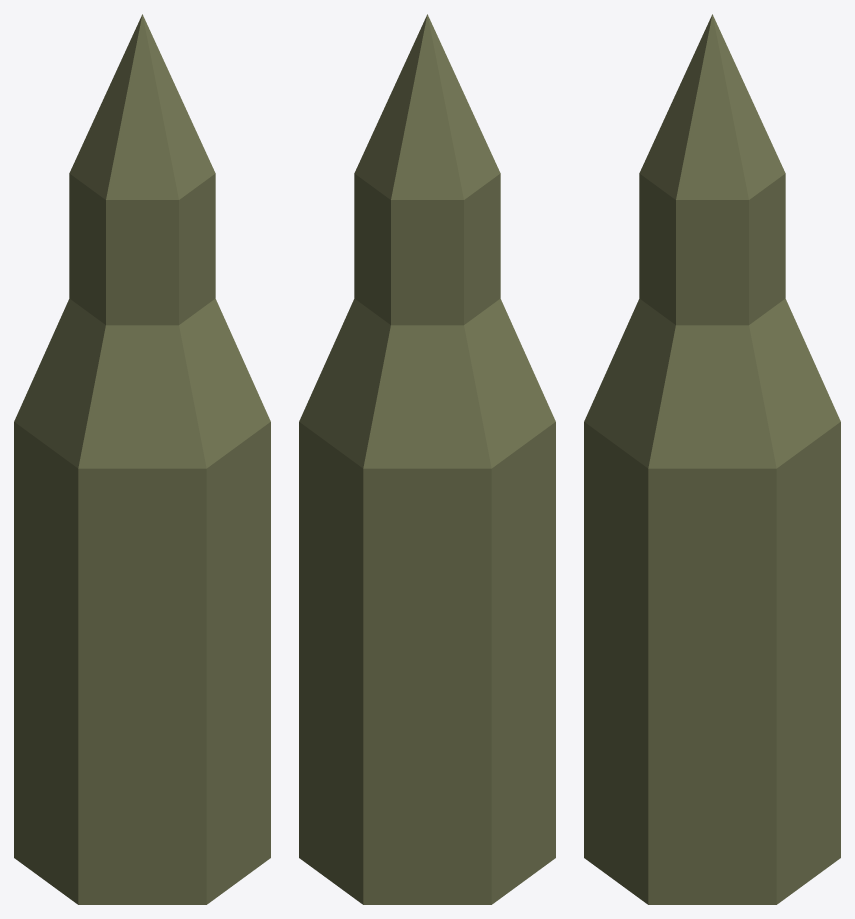
File: M8_Greyhound_Shell Corrected 2.fbx
3 views of the same model, side by side, from view 1: azimuth 30°, elevation 25°; view 2: azimuth 150°, elevation 25°; view 3: azimuth 270°, elevation 25° (orthographic).
Visible parts, largest first — view 1: turret.002; view 2: turret.002; view 3: turret.002.
Boxes of the visible parts, x1,y1,x2,y2 form: turret.002: (14, 14, 270, 904); turret.002: (299, 14, 555, 904); turret.002: (584, 14, 840, 904).
Bounding box in the file's own units: 13.86 × 58.03 × 16.
